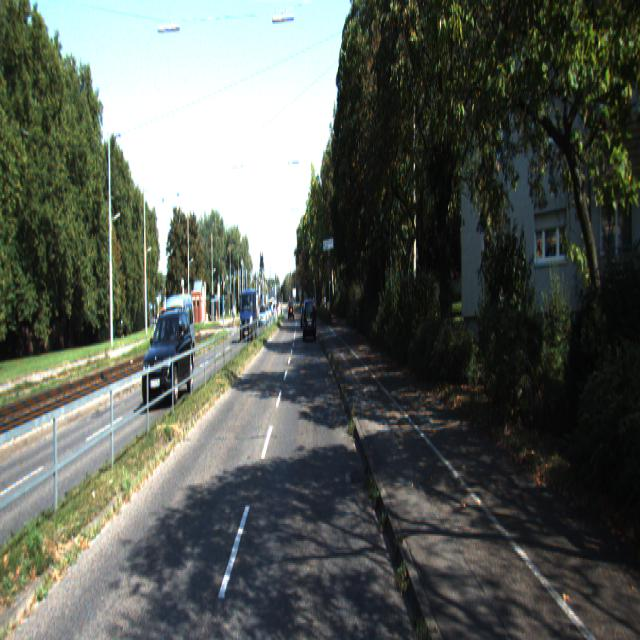Car: (142, 308, 195, 409), (160, 293, 196, 376), (240, 288, 257, 343), (303, 299, 317, 344)
